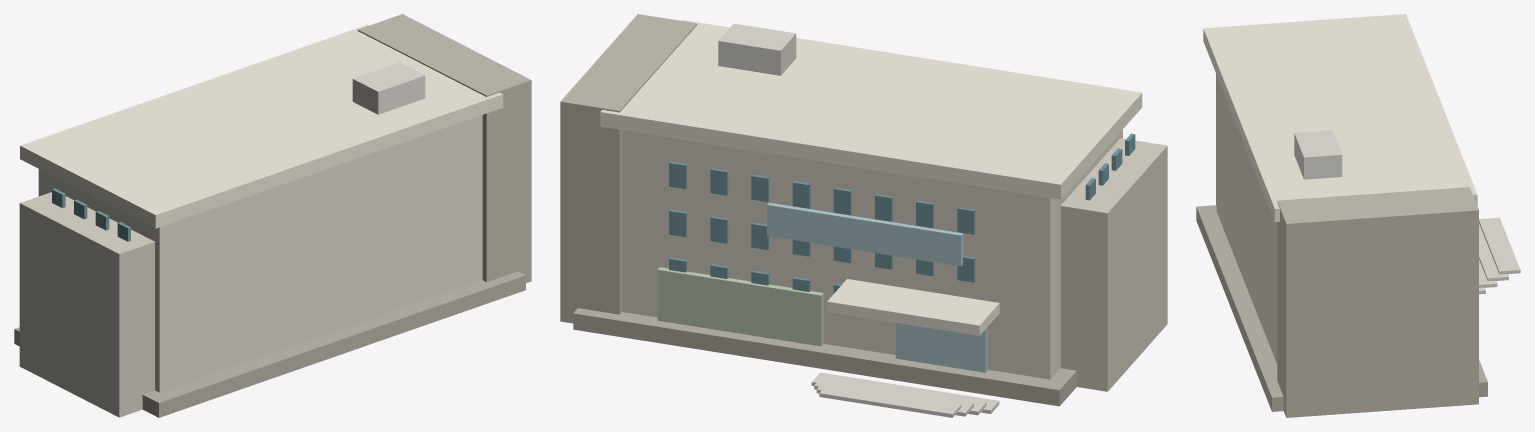
File: haeoreum-overview.glb
3 renders of one model, left to right at view 1: azimuth 30°, elevation 25°; view 2: azimuth 150°, elevation 25°; view 3: azimuth 270°, elevation 25°, orthographic. The views are drawn at different scales.
Bounding box in the file's own units: 29.11 × 13.17 × 18.01.
